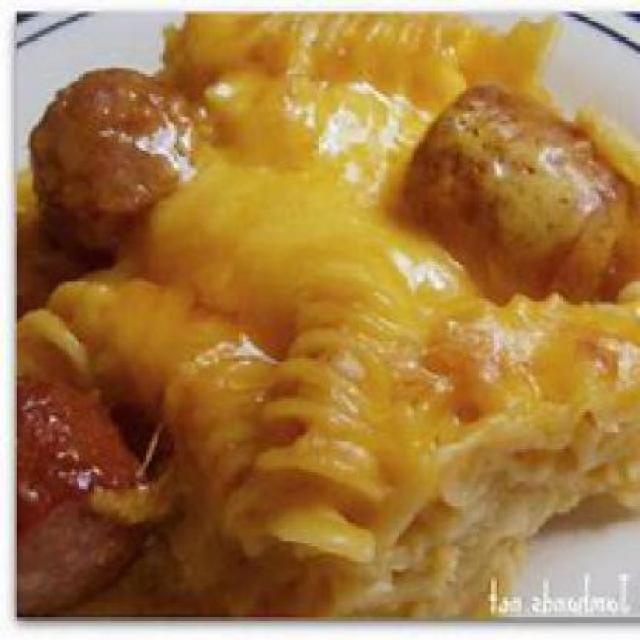hot dog: (402, 77, 635, 301), (16, 361, 155, 608), (30, 59, 202, 242)
